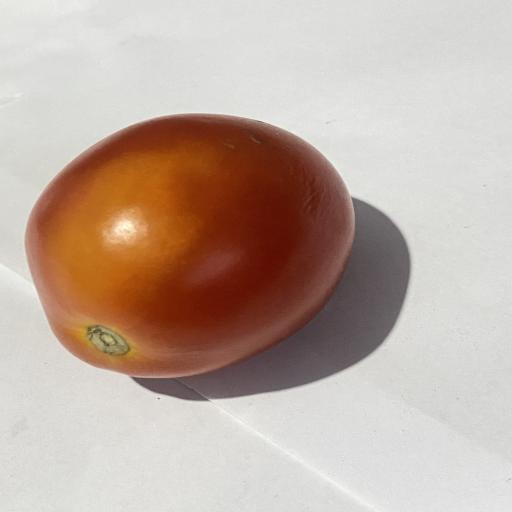ripe: (26, 114, 354, 377)
